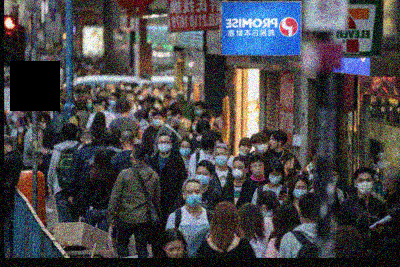mask_weared_incorrect: (239, 145, 251, 155)
with_mask: (184, 187, 201, 207), (356, 176, 373, 195), (194, 169, 210, 186), (291, 184, 307, 200), (230, 163, 245, 179), (156, 138, 171, 154), (214, 149, 228, 166), (267, 171, 282, 184), (255, 140, 269, 153), (178, 143, 190, 155), (171, 115, 182, 125), (152, 116, 162, 127), (107, 96, 117, 106), (194, 105, 203, 116), (36, 120, 46, 129), (330, 171, 337, 183), (85, 100, 92, 108)
without_mask: (164, 238, 183, 257), (249, 161, 262, 175), (382, 175, 390, 191), (268, 136, 278, 148)
